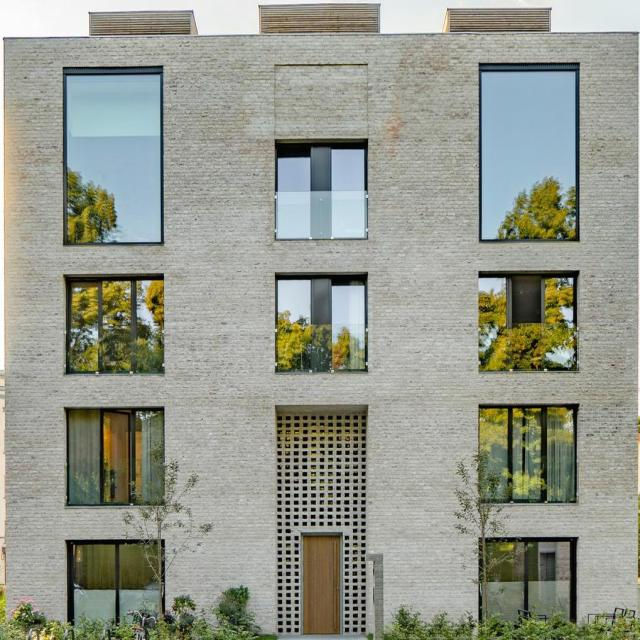door: (302, 532, 340, 630)
wall: (4, 0, 638, 633)
windows: (480, 64, 576, 236), (68, 71, 160, 240), (478, 401, 574, 503), (64, 406, 164, 500), (278, 148, 368, 244), (70, 277, 162, 370), (274, 276, 363, 372), (479, 536, 572, 624), (70, 538, 159, 628), (545, 273, 576, 366), (479, 275, 506, 367)
